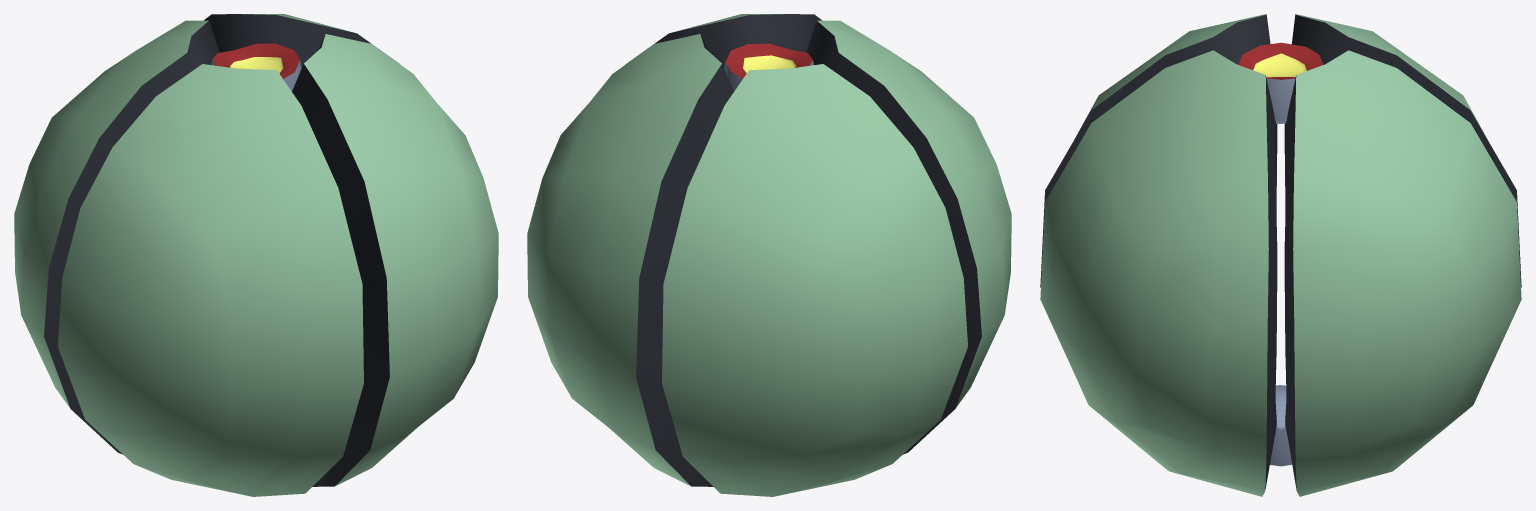
Rendered from ball.fbx.
3 views of the same model, side by side, from view 1: azimuth 30°, elevation 25°; view 2: azimuth 150°, elevation 25°; view 3: azimuth 270°, elevation 25° (orthographic).
Visible parts, largest first — view 1: Ball; view 2: Ball; view 3: Ball.
Boxes of the visible parts, x1,y1,x2,y2 form: Ball: (14,14,498,496); Ball: (527,14,1011,496); Ball: (1040,14,1521,496).
Size of the model in its own units: 0.4067 by 0.4017 by 0.4129.
